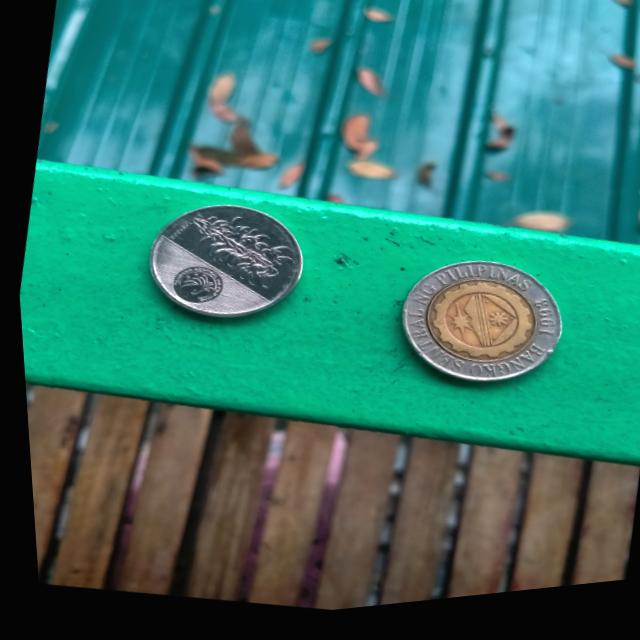10_Old_Back: (389, 256, 557, 400)
5_New_Back: (159, 201, 311, 321)
